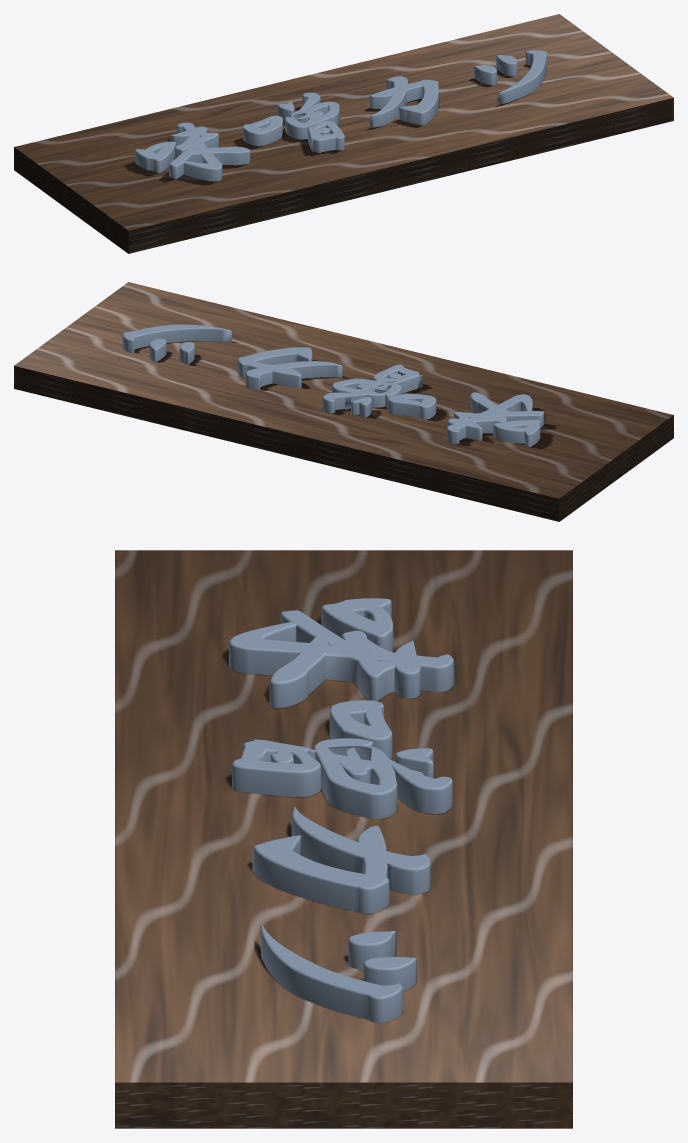
The model's file is misokatu.fbx.
The picture shows the model from 3 angles, top to bottom: view 1: azimuth 30°, elevation 25°; view 2: azimuth 150°, elevation 25°; view 3: azimuth 270°, elevation 25°; orthographic projection. The views are drawn at different scales.
Visible parts, largest first — view 1: 味噌カツ看板, 味噌カツ; view 2: 味噌カツ看板, 味噌カツ; view 3: 味噌カツ看板, 味噌カツ.
Part boxes in pixels (x1,y1,x2,y2): 味噌カツ看板: (14, 14, 673, 253); 味噌カツ: (135, 50, 547, 181); 味噌カツ看板: (14, 282, 673, 521); 味噌カツ: (122, 324, 544, 446); 味噌カツ看板: (115, 550, 572, 1128); 味噌カツ: (229, 598, 453, 1022).
Bounding box in the file's own units: 495 × 31 × 180.
Materials: 2 (2 with a texture image).
